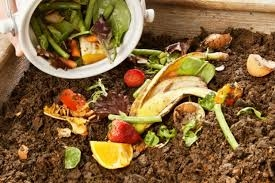kitchen_waste: (127, 51, 231, 126), (87, 136, 139, 169), (169, 101, 214, 137), (99, 2, 134, 48), (56, 84, 96, 118), (104, 118, 147, 145), (195, 30, 237, 53), (242, 52, 275, 81), (55, 142, 86, 172), (107, 112, 165, 128), (42, 29, 74, 58), (214, 82, 247, 110), (79, 35, 109, 64), (122, 66, 149, 89), (42, 1, 83, 15), (52, 53, 79, 71), (84, 1, 93, 36)
